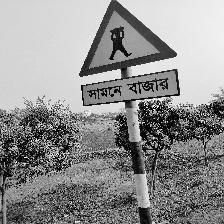Market-in-front: (78, 0, 181, 107)
